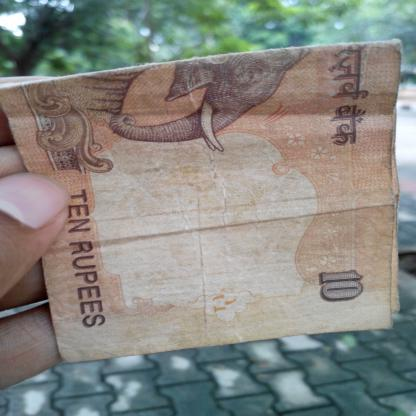Old10Back: (0, 38, 405, 364)
